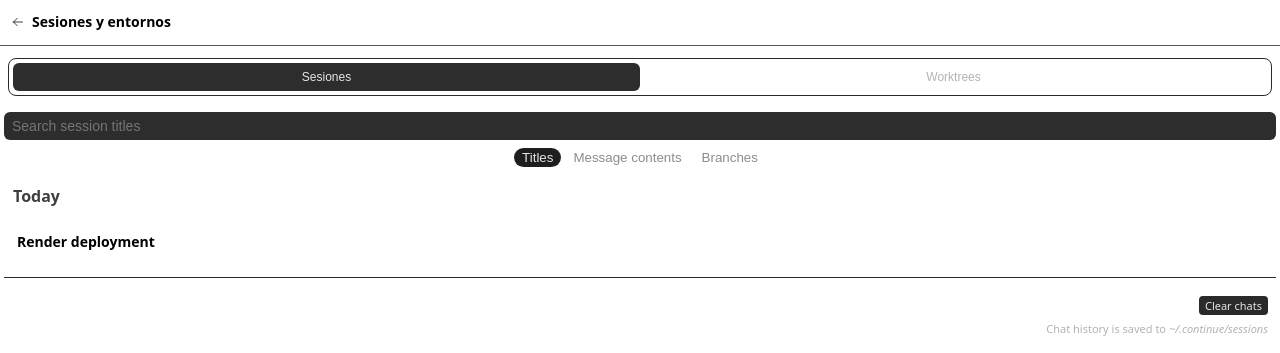
searching inside past conversations › searches message contents once that scope is chosen
Click the button with test id "history-scope-messages" at (628, 158), box [565,148,690,167]
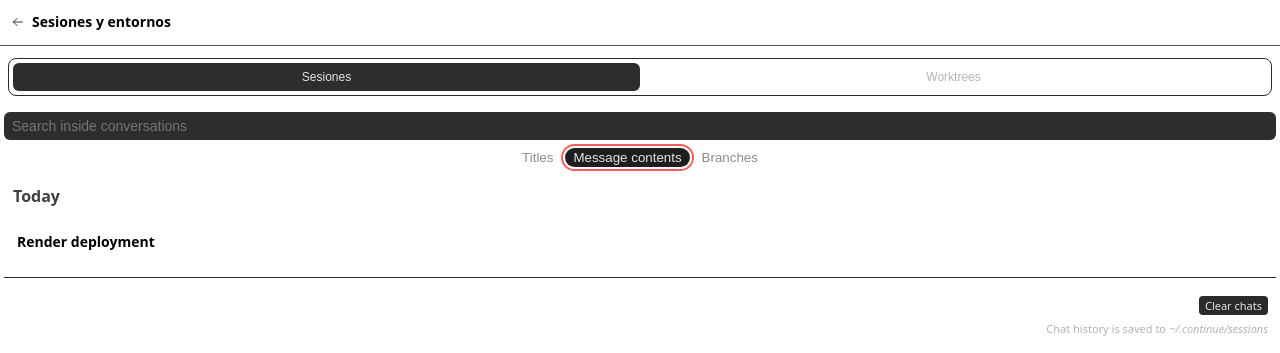
Type "trigram" into the field with placeholder "Search inside conversations" at (640, 126), box [4,112,1276,140]
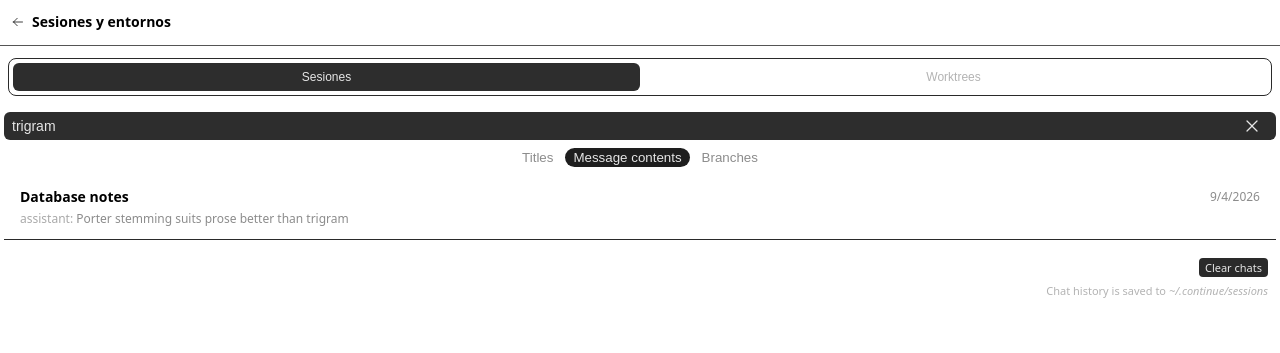
Expected: the text "assistant: Porter stemming suits prose better than trigram" is shown, [20,210,349,227]
